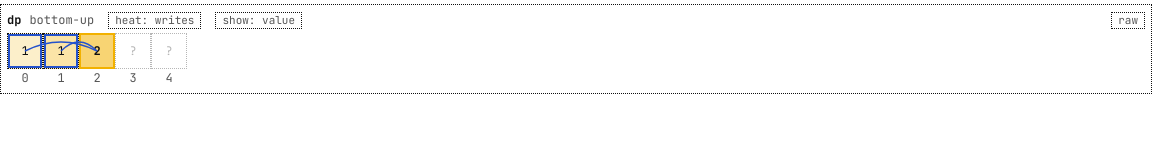
Test: DpTablePanel › clicking a cell opens a detail box with value and write step; never a player jump
Click the 1st text "2" at [97, 51], box [79,33,115,69]
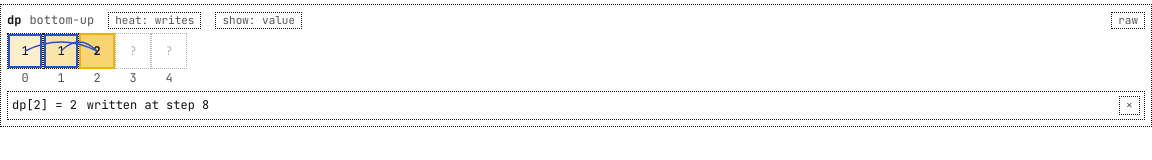
Result: the element with class "dp-detail" shows "dp[2]" at [7,91,1145,120]
Result: the element with class "dp-detail" shows "step 8" at [87,97,209,113]
